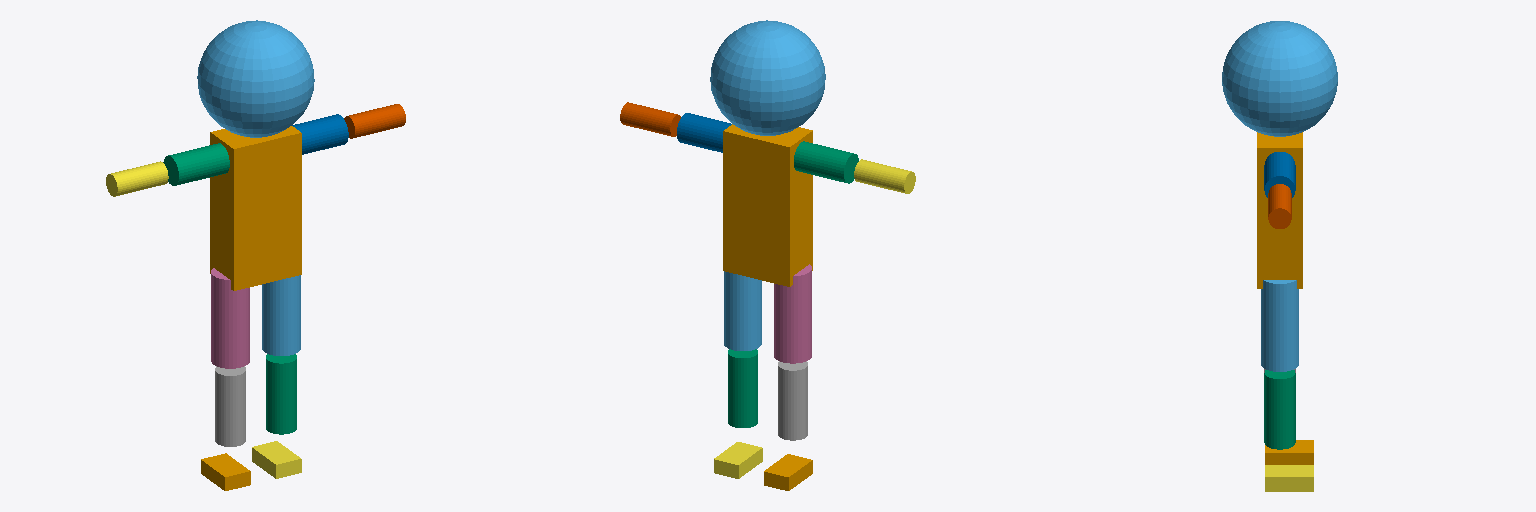
URDF robot description (ichika):
<?xml version="1.0" encoding="utf-8"?>
<!-- Ichika VRM Character URDF for Locomotion -->
<robot name="ichika">
    
    <!-- Base/Torso Link -->
    <link name="base">
        <visual>
            <origin rpy="0 0 0" xyz="0 0 0"/>
            <geometry>
                <box size="0.4 0.24 0.8"/>
            </geometry>
        </visual>
        <collision>
            <origin rpy="0 0 0" xyz="0 0 0"/>
            <geometry>
                <box size="0.4 0.24 0.8"/>
            </geometry>
        </collision>
        <inertial>
            <origin rpy="0 0 0" xyz="0 0 0"/>
            <mass value="10.0"/>
            <inertia ixx="0.5" ixy="0" ixz="0" iyy="0.5" iyz="0" izz="0.3"/>
        </inertial>
    </link>

    <!-- Head Link -->
    <link name="head">
        <visual>
            <origin rpy="0 0 0" xyz="0 0 0"/>
            <geometry>
                <sphere radius="0.3"/>
            </geometry>
        </visual>
        <collision>
            <origin rpy="0 0 0" xyz="0 0 0"/>
            <geometry>
                <sphere radius="0.3"/>
            </geometry>
        </collision>
        <inertial>
            <origin rpy="0 0 0" xyz="0 0 0"/>
            <mass value="2.0"/>
            <inertia ixx="0.05" ixy="0" ixz="0" iyy="0.05" iyz="0" izz="0.05"/>
        </inertial>
    </link>

    <!-- Neck Joint -->
    <joint name="neck_joint" type="revolute">
        <parent link="base"/>
        <child link="head"/>
        <origin rpy="0 0 0" xyz="0 0 0.7"/>
        <axis xyz="0 0 1"/>
        <limit effort="50" lower="-0.5" upper="0.5" velocity="2.0"/>
        <dynamics damping="1.0" friction="0.1"/>
    </joint>

    <!-- Left Upper Arm -->
    <link name="left_upper_arm">
        <visual>
            <origin rpy="0 1.57 0" xyz="0 0 0"/>
            <geometry>
                <cylinder radius="0.08" length="0.4"/>
            </geometry>
        </visual>
        <collision>
            <origin rpy="0 1.57 0" xyz="0 0 0"/>
            <geometry>
                <cylinder radius="0.08" length="0.4"/>
            </geometry>
        </collision>
        <inertial>
            <origin rpy="0 0 0" xyz="0 0 0"/>
            <mass value="1.5"/>
            <inertia ixx="0.02" ixy="0" ixz="0" iyy="0.02" iyz="0" izz="0.005"/>
        </inertial>
    </link>

    <!-- Left Shoulder Joint -->
    <joint name="left_shoulder_joint" type="revolute">
        <parent link="base"/>
        <child link="left_upper_arm"/>
        <origin rpy="0 0 0" xyz="-0.3 0 0.3"/>
        <axis xyz="0 1 0"/>
        <limit effort="80" lower="-1.5" upper="1.5" velocity="3.0"/>
        <dynamics damping="2.0" friction="0.2"/>
    </joint>

    <!-- Left Forearm -->
    <link name="left_forearm">
        <visual>
            <origin rpy="0 1.57 0" xyz="0 0 0"/>
            <geometry>
                <cylinder radius="0.06" length="0.3"/>
            </geometry>
        </visual>
        <collision>
            <origin rpy="0 1.57 0" xyz="0 0 0"/>
            <geometry>
                <cylinder radius="0.06" length="0.3"/>
            </geometry>
        </collision>
        <inertial>
            <origin rpy="0 0 0" xyz="0 0 0"/>
            <mass value="1.0"/>
            <inertia ixx="0.01" ixy="0" ixz="0" iyy="0.01" iyz="0" izz="0.003"/>
        </inertial>
    </link>

    <!-- Left Elbow Joint -->
    <joint name="left_elbow_joint" type="revolute">
        <parent link="left_upper_arm"/>
        <child link="left_forearm"/>
        <origin rpy="0 0 0" xyz="-0.4 0 0"/>
        <axis xyz="0 1 0"/>
        <limit effort="60" lower="-2.5" upper="0.1" velocity="3.0"/>
        <dynamics damping="1.5" friction="0.15"/>
    </joint>

    <!-- Right Upper Arm -->
    <link name="right_upper_arm">
        <visual>
            <origin rpy="0 1.57 0" xyz="0 0 0"/>
            <geometry>
                <cylinder radius="0.08" length="0.4"/>
            </geometry>
        </visual>
        <collision>
            <origin rpy="0 1.57 0" xyz="0 0 0"/>
            <geometry>
                <cylinder radius="0.08" length="0.4"/>
            </geometry>
        </collision>
        <inertial>
            <origin rpy="0 0 0" xyz="0 0 0"/>
            <mass value="1.5"/>
            <inertia ixx="0.02" ixy="0" ixz="0" iyy="0.02" iyz="0" izz="0.005"/>
        </inertial>
    </link>

    <!-- Right Shoulder Joint -->
    <joint name="right_shoulder_joint" type="revolute">
        <parent link="base"/>
        <child link="right_upper_arm"/>
        <origin rpy="0 0 0" xyz="0.3 0 0.3"/>
        <axis xyz="0 1 0"/>
        <limit effort="80" lower="-1.5" upper="1.5" velocity="3.0"/>
        <dynamics damping="2.0" friction="0.2"/>
    </joint>

    <!-- Right Forearm -->
    <link name="right_forearm">
        <visual>
            <origin rpy="0 1.57 0" xyz="0 0 0"/>
            <geometry>
                <cylinder radius="0.06" length="0.3"/>
            </geometry>
        </visual>
        <collision>
            <origin rpy="0 1.57 0" xyz="0 0 0"/>
            <geometry>
                <cylinder radius="0.06" length="0.3"/>
            </geometry>
        </collision>
        <inertial>
            <origin rpy="0 0 0" xyz="0 0 0"/>
            <mass value="1.0"/>
            <inertia ixx="0.01" ixy="0" ixz="0" iyy="0.01" iyz="0" izz="0.003"/>
        </inertial>
    </link>

    <!-- Right Elbow Joint -->
    <joint name="right_elbow_joint" type="revolute">
        <parent link="right_upper_arm"/>
        <child link="right_forearm"/>
        <origin rpy="0 0 0" xyz="0.4 0 0"/>
        <axis xyz="0 1 0"/>
        <limit effort="60" lower="-2.5" upper="0.1" velocity="3.0"/>
        <dynamics damping="1.5" friction="0.15"/>
    </joint>

    <!-- Left Thigh -->
    <link name="left_thigh">
        <visual>
            <origin rpy="0 0 0" xyz="0 0 0"/>
            <geometry>
                <cylinder radius="0.1" length="0.5"/>
            </geometry>
        </visual>
        <collision>
            <origin rpy="0 0 0" xyz="0 0 0"/>
            <geometry>
                <cylinder radius="0.1" length="0.5"/>
            </geometry>
        </collision>
        <inertial>
            <origin rpy="0 0 0" xyz="0 0 0"/>
            <mass value="3.0"/>
            <inertia ixx="0.05" ixy="0" ixz="0" iyy="0.05" iyz="0" izz="0.01"/>
        </inertial>
    </link>

    <!-- Left Hip Joint -->
    <joint name="left_hip_joint" type="revolute">
        <parent link="base"/>
        <child link="left_thigh"/>
        <origin rpy="0 0 0" xyz="-0.15 0 -0.6"/>
        <axis xyz="0 1 0"/>
        <limit effort="150" lower="-1.0" upper="1.0" velocity="4.0"/>
        <dynamics damping="3.0" friction="0.3"/>
    </joint>

    <!-- Left Shin -->
    <link name="left_shin">
        <visual>
            <origin rpy="0 0 0" xyz="0 0 0"/>
            <geometry>
                <cylinder radius="0.08" length="0.4"/>
            </geometry>
        </visual>
        <collision>
            <origin rpy="0 0 0" xyz="0 0 0"/>
            <geometry>
                <cylinder radius="0.08" length="0.4"/>
            </geometry>
        </collision>
        <inertial>
            <origin rpy="0 0 0" xyz="0 0 0"/>
            <mass value="2.0"/>
            <inertia ixx="0.03" ixy="0" ixz="0" iyy="0.03" iyz="0" izz="0.005"/>
        </inertial>
    </link>

    <!-- Left Knee Joint -->
    <joint name="left_knee_joint" type="revolute">
        <parent link="left_thigh"/>
        <child link="left_shin"/>
        <origin rpy="0 0 0" xyz="0 0 -0.5"/>
        <axis xyz="0 1 0"/>
        <limit effort="120" lower="-2.5" upper="0.1" velocity="4.0"/>
        <dynamics damping="2.5" friction="0.25"/>
    </joint>

    <!-- Left Foot -->
    <link name="left_foot">
        <visual>
            <origin rpy="0 0 0" xyz="0 0 0"/>
            <geometry>
                <box size="0.15 0.25 0.08"/>
            </geometry>
        </visual>
        <collision>
            <origin rpy="0 0 0" xyz="0 0 0"/>
            <geometry>
                <box size="0.15 0.25 0.08"/>
            </geometry>
        </collision>
        <inertial>
            <origin rpy="0 0 0" xyz="0 0 0"/>
            <mass value="1.0"/>
            <inertia ixx="0.01" ixy="0" ixz="0" iyy="0.01" iyz="0" izz="0.01"/>
        </inertial>
    </link>

    <!-- Left Ankle Joint -->
    <joint name="left_ankle_joint" type="revolute">
        <parent link="left_shin"/>
        <child link="left_foot"/>
        <origin rpy="0 0 0" xyz="0 0.05 -0.4"/>
        <axis xyz="0 1 0"/>
        <limit effort="80" lower="-0.5" upper="0.5" velocity="3.0"/>
        <dynamics damping="1.0" friction="0.2"/>
    </joint>

    <!-- Right Thigh -->
    <link name="right_thigh">
        <visual>
            <origin rpy="0 0 0" xyz="0 0 0"/>
            <geometry>
                <cylinder radius="0.1" length="0.5"/>
            </geometry>
        </visual>
        <collision>
            <origin rpy="0 0 0" xyz="0 0 0"/>
            <geometry>
                <cylinder radius="0.1" length="0.5"/>
            </geometry>
        </collision>
        <inertial>
            <origin rpy="0 0 0" xyz="0 0 0"/>
            <mass value="3.0"/>
            <inertia ixx="0.05" ixy="0" ixz="0" iyy="0.05" iyz="0" izz="0.01"/>
        </inertial>
    </link>

    <!-- Right Hip Joint -->
    <joint name="right_hip_joint" type="revolute">
        <parent link="base"/>
        <child link="right_thigh"/>
        <origin rpy="0 0 0" xyz="0.15 0 -0.6"/>
        <axis xyz="0 1 0"/>
        <limit effort="150" lower="-1.0" upper="1.0" velocity="4.0"/>
        <dynamics damping="3.0" friction="0.3"/>
    </joint>

    <!-- Right Shin -->
    <link name="right_shin">
        <visual>
            <origin rpy="0 0 0" xyz="0 0 0"/>
            <geometry>
                <cylinder radius="0.08" length="0.4"/>
            </geometry>
        </visual>
        <collision>
            <origin rpy="0 0 0" xyz="0 0 0"/>
            <geometry>
                <cylinder radius="0.08" length="0.4"/>
            </geometry>
        </collision>
        <inertial>
            <origin rpy="0 0 0" xyz="0 0 0"/>
            <mass value="2.0"/>
            <inertia ixx="0.03" ixy="0" ixz="0" iyy="0.03" iyz="0" izz="0.005"/>
        </inertial>
    </link>

    <!-- Right Knee Joint -->
    <joint name="right_knee_joint" type="revolute">
        <parent link="right_thigh"/>
        <child link="right_shin"/>
        <origin rpy="0 0 0" xyz="0 0 -0.5"/>
        <axis xyz="0 1 0"/>
        <limit effort="120" lower="-2.5" upper="0.1" velocity="4.0"/>
        <dynamics damping="2.5" friction="0.25"/>
    </joint>

    <!-- Right Foot -->
    <link name="right_foot">
        <visual>
            <origin rpy="0 0 0" xyz="0 0 0"/>
            <geometry>
                <box size="0.15 0.25 0.08"/>
            </geometry>
        </visual>
        <collision>
            <origin rpy="0 0 0" xyz="0 0 0"/>
            <geometry>
                <box size="0.15 0.25 0.08"/>
            </geometry>
        </collision>
        <inertial>
            <origin rpy="0 0 0" xyz="0 0 0"/>
            <mass value="1.0"/>
            <inertia ixx="0.01" ixy="0" ixz="0" iyy="0.01" iyz="0" izz="0.01"/>
        </inertial>
    </link>

    <!-- Right Ankle Joint -->
    <joint name="right_ankle_joint" type="revolute">
        <parent link="right_shin"/>
        <child link="right_foot"/>
        <origin rpy="0 0 0" xyz="0 0.05 -0.4"/>
        <axis xyz="0 1 0"/>
        <limit effort="80" lower="-0.5" upper="0.5" velocity="3.0"/>
        <dynamics damping="1.0" friction="0.2"/>
    </joint>

</robot>

--- Facts derived from the render (not from the file) ---
The picture shows the robot from 3 angles, left to right: view 1: azimuth 30°, elevation 25°; view 2: azimuth 150°, elevation 25°; view 3: azimuth 270°, elevation 25°; orthographic projection.
Model ichika with 12 links and 11 joints (11 revolute), rooted at base, posed all joints at 0.
Links seen in each view (by area): view 1: base, head, left_thigh, right_thigh, right_shin, left_shin, left_upper_arm, right_upper_arm, left_forearm, right_forearm, left_foot, right_foot; view 2: base, head, left_thigh, right_thigh, right_shin, left_shin, left_upper_arm, right_upper_arm, left_forearm, right_forearm, right_foot, left_foot; view 3: head, base, right_thigh, right_shin, right_foot, right_upper_arm, right_forearm, left_foot.
Boxes of the visible links, bbox=[...] form: base: bbox=[210, 126, 301, 290]; head: bbox=[197, 20, 314, 137]; left_thigh: bbox=[211, 268, 249, 368]; right_thigh: bbox=[262, 275, 300, 355]; right_shin: bbox=[266, 354, 296, 434]; left_shin: bbox=[215, 366, 245, 446]; left_upper_arm: bbox=[163, 143, 229, 185]; right_upper_arm: bbox=[292, 114, 348, 154]; left_forearm: bbox=[106, 161, 168, 196]; right_forearm: bbox=[344, 104, 405, 138]; left_foot: bbox=[201, 453, 250, 490]; right_foot: bbox=[252, 441, 301, 478]; base: bbox=[723, 124, 812, 286]; head: bbox=[710, 20, 825, 135]; left_thigh: bbox=[774, 264, 811, 363]; right_thigh: bbox=[724, 271, 761, 350]; right_shin: bbox=[728, 349, 757, 427]; left_shin: bbox=[778, 361, 807, 440]; left_upper_arm: bbox=[794, 141, 858, 183]; right_upper_arm: bbox=[677, 113, 731, 152]; left_forearm: bbox=[854, 159, 915, 193]; right_forearm: bbox=[620, 102, 680, 136]; right_foot: bbox=[714, 442, 762, 478]; left_foot: bbox=[764, 454, 812, 490]; head: bbox=[1222, 21, 1337, 136]; base: bbox=[1257, 132, 1302, 288]; right_thigh: bbox=[1261, 280, 1298, 371]; right_shin: bbox=[1264, 370, 1295, 449]; right_foot: bbox=[1265, 465, 1313, 491]; right_upper_arm: bbox=[1264, 152, 1295, 197]; right_forearm: bbox=[1268, 184, 1291, 228]; left_foot: bbox=[1265, 440, 1313, 464].
Bounding box of the posed robot: 1.7 × 0.6 × 2.54 m (x, y, z).
Geometry: primitives only (box / cylinder / sphere), no mesh files.
